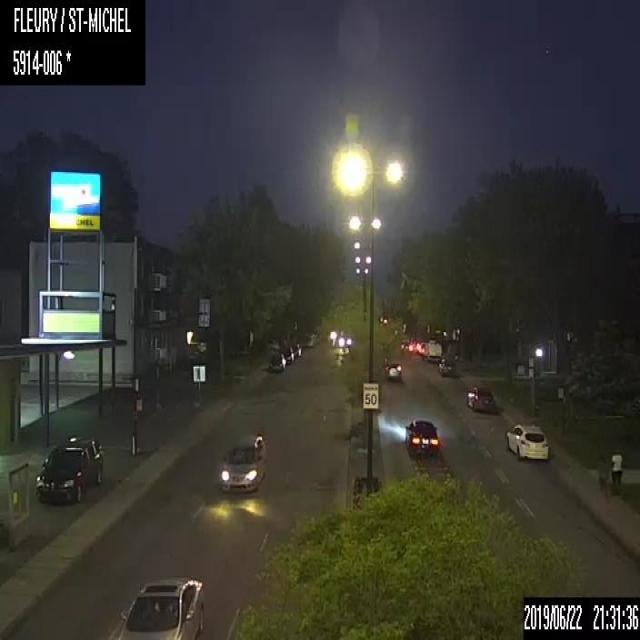pedestrian: (608, 448, 623, 499), (597, 451, 608, 492)
vehicle: (116, 572, 205, 639), (32, 432, 104, 508), (218, 433, 266, 492), (504, 420, 549, 460), (404, 416, 438, 459), (462, 384, 492, 411), (435, 355, 456, 376), (267, 350, 286, 372), (425, 336, 441, 362), (383, 359, 402, 380), (282, 346, 294, 362)
